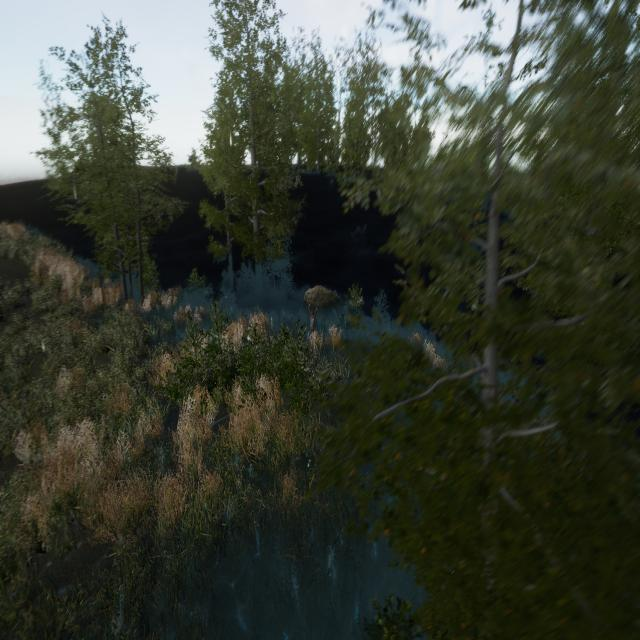Human: (302, 294, 319, 351)
